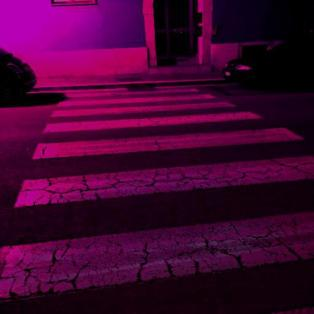Paso de Cebra: (30, 109, 309, 163)
